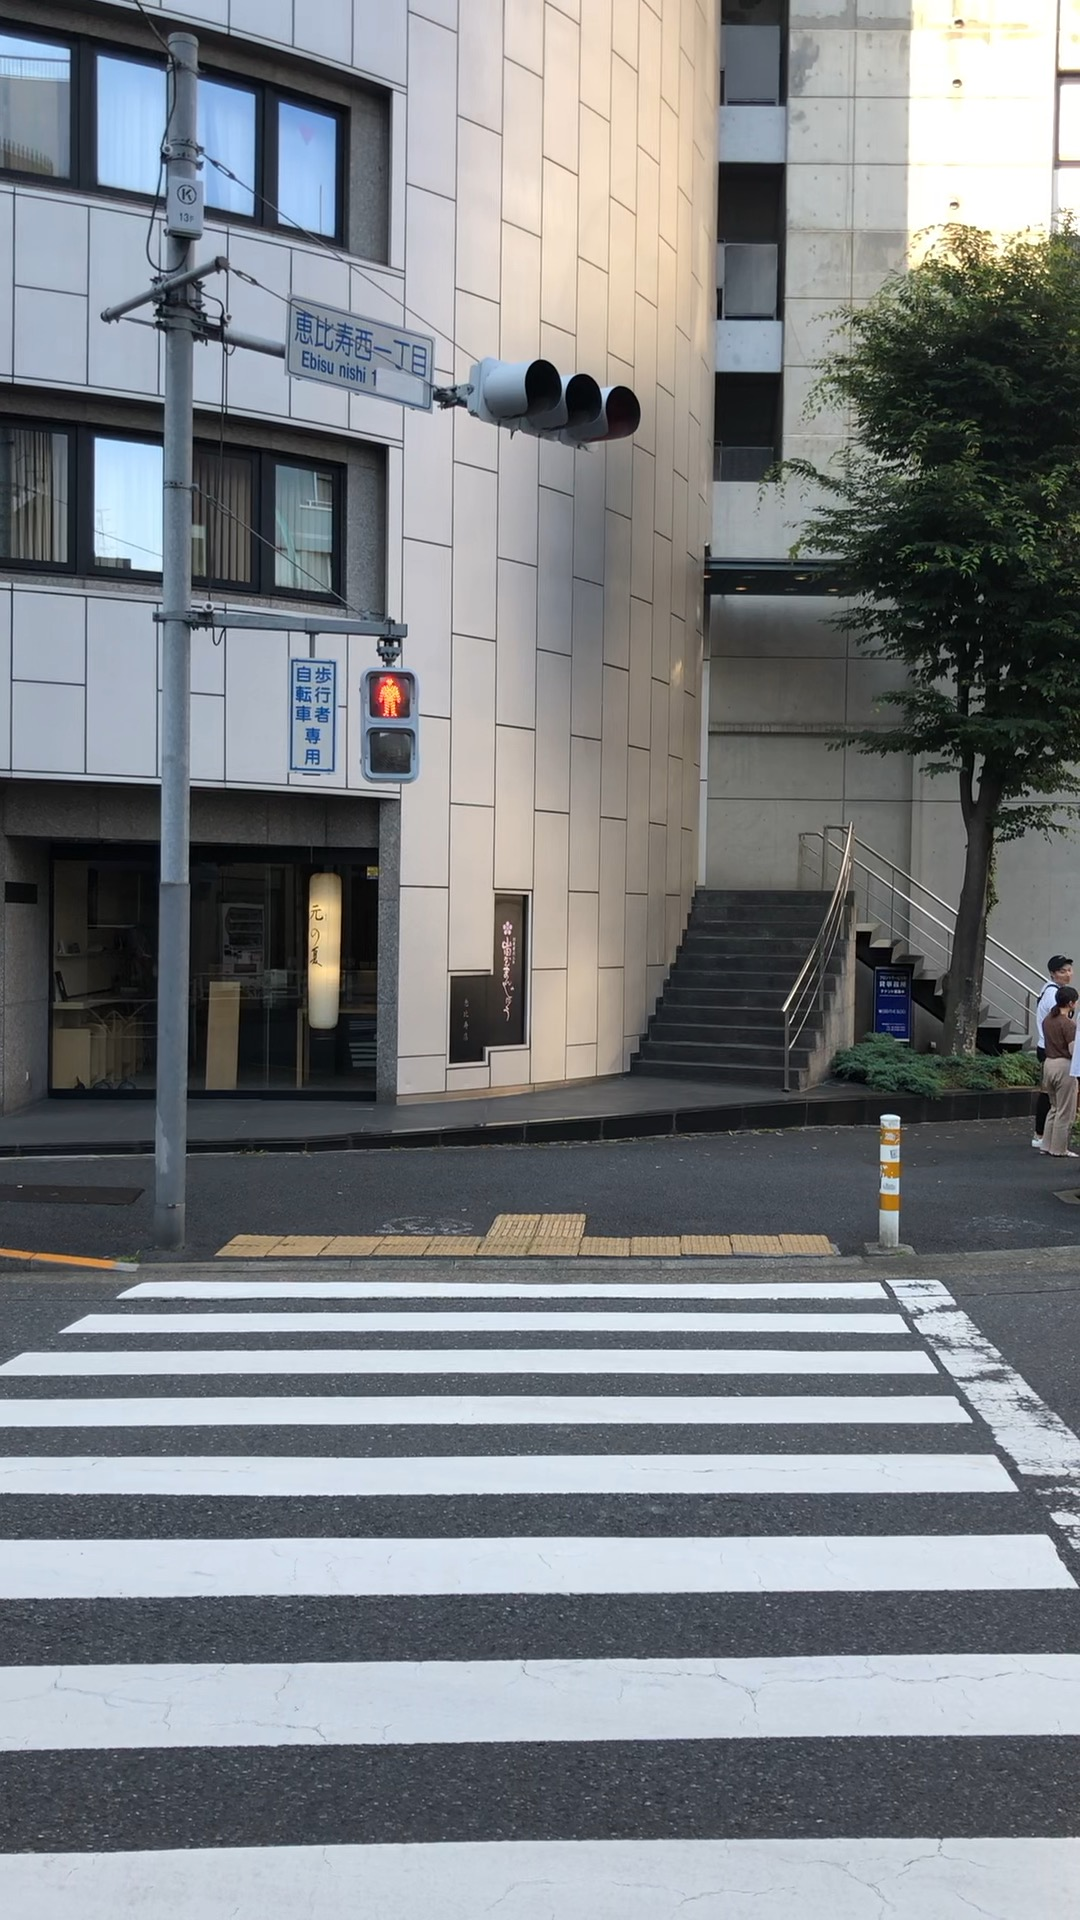red: (359, 669, 419, 782)
